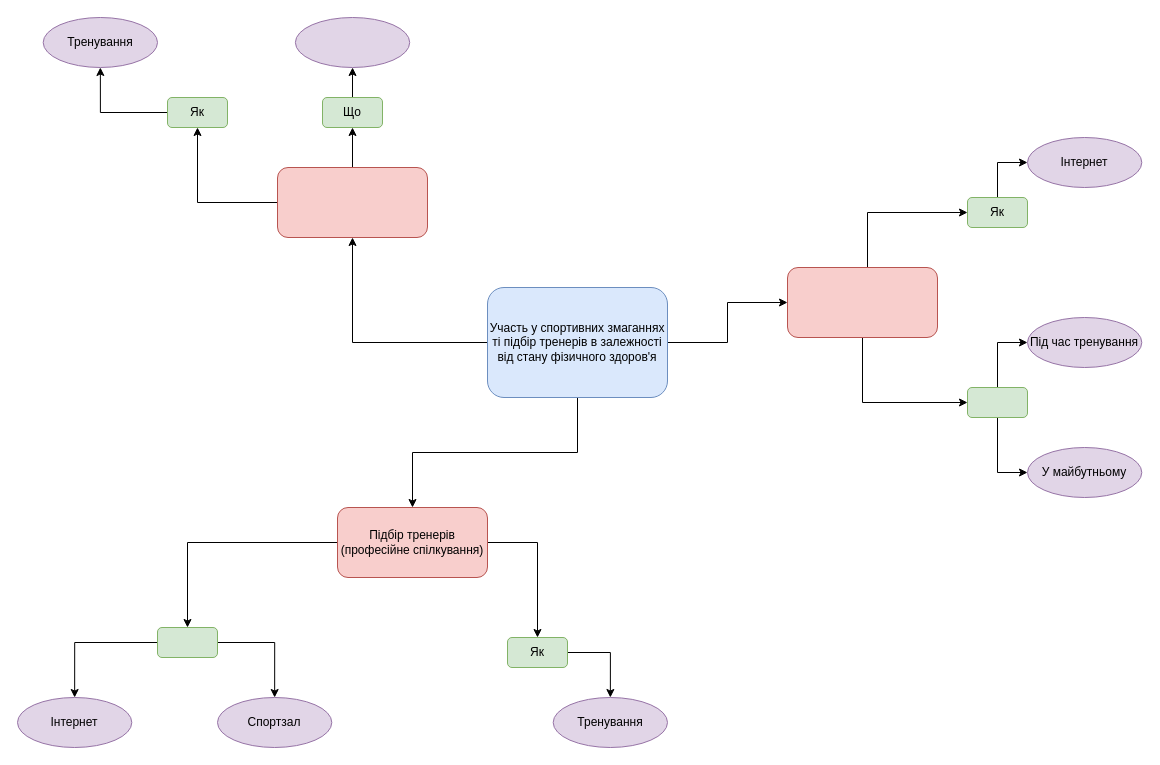
This 1160x765 diagram has some shape labels left out. The centre of each missing label's shape, as x and y in pixels:
"Де" belongs at pixel 187 642.
"Коли" belongs at pixel 997 402.
"Покращується" belongs at pixel 352 42.
"Стан фізичного здоров'я" belongs at pixel 352 202.
"Участь у спортивних змаганнях" belongs at pixel 862 302.
